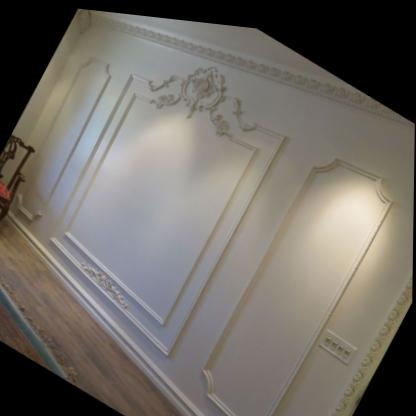Futec frame: (25, 9, 308, 372), (183, 119, 403, 416), (0, 16, 134, 259)
